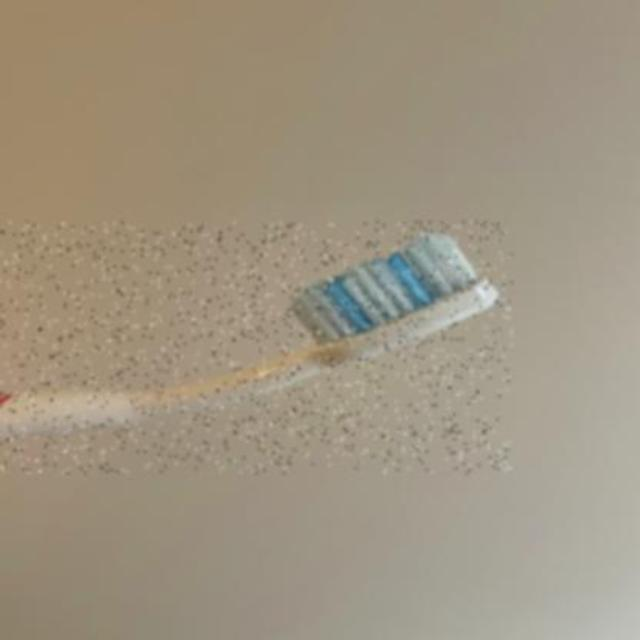toothbrush: (0, 222, 512, 474)
